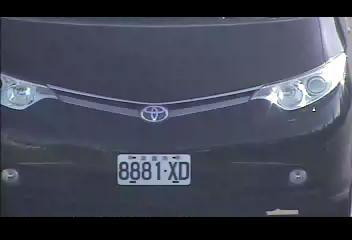plate: (115, 152, 191, 187)
